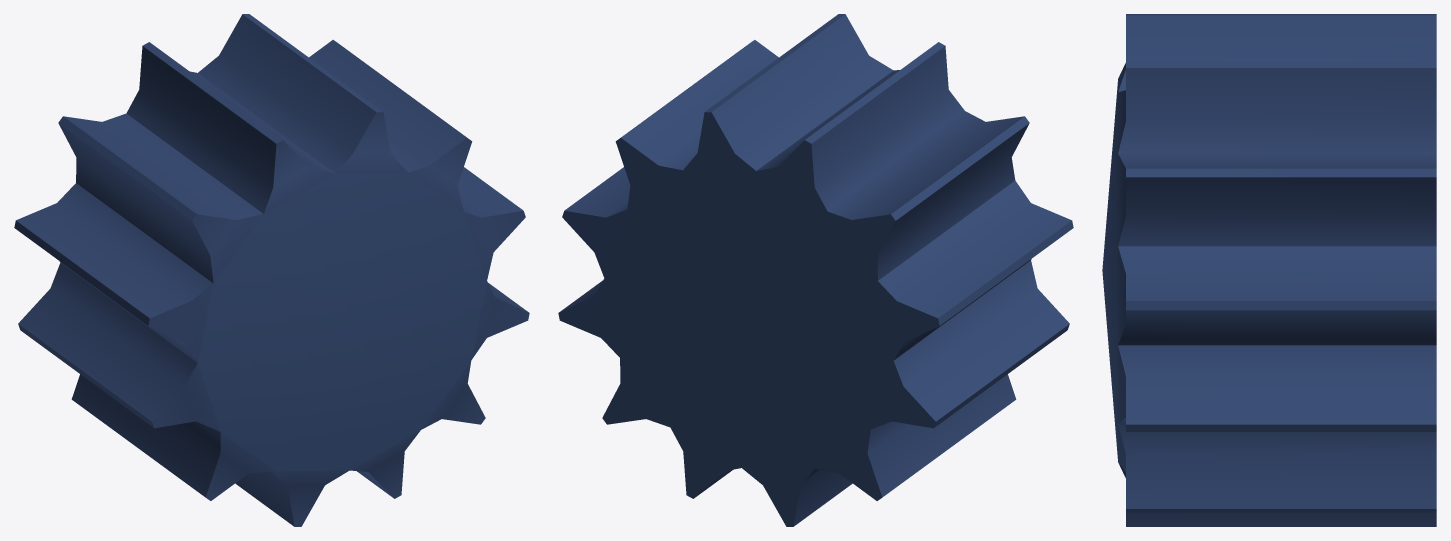
The model's file is SquggleWheel2_Base.fbx.
3 renders of one model, left to right at view 1: azimuth 30°, elevation 25°; view 2: azimuth 150°, elevation 25°; view 3: azimuth 270°, elevation 25°, orthographic. The views are drawn at different scales.
Parts seen in each view (by area): view 1: Wheel2; view 2: Wheel2; view 3: Wheel2.
Part boxes in pixels (x1,y1,x2,y2): Wheel2: (14,14,529,526); Wheel2: (558,14,1073,526); Wheel2: (1102,14,1436,526).
Bounding box in the file's own units: 9.29 × 9.23 × 6.09.
